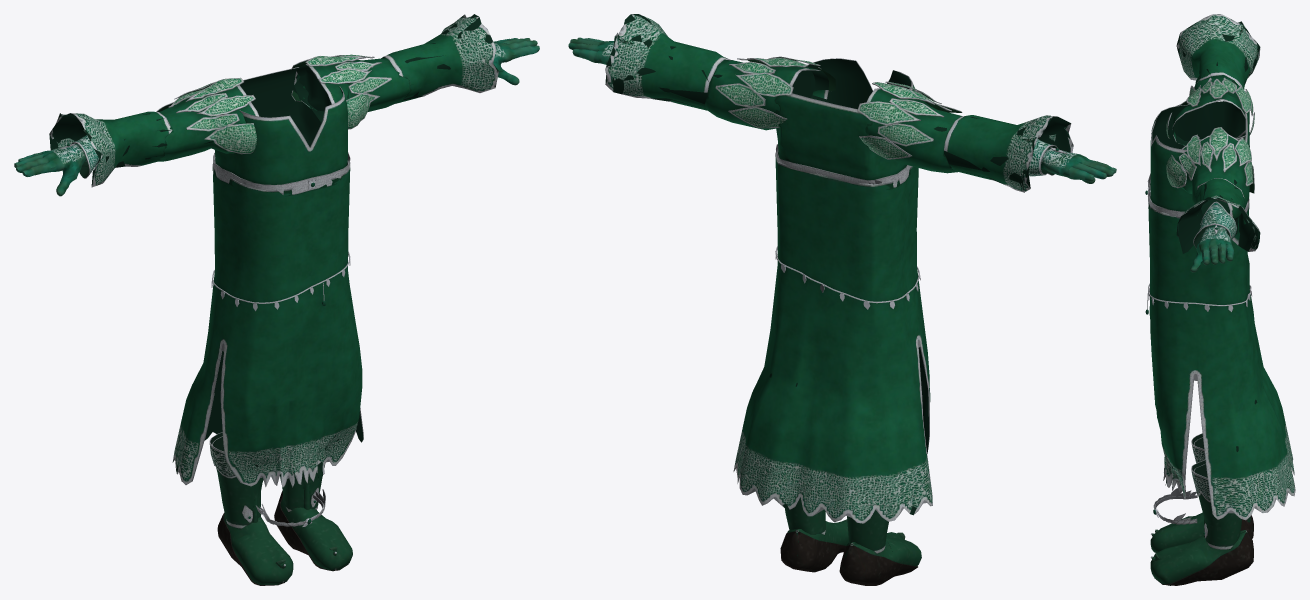
The model's file is mage_emerald.glb.
The picture shows the model from 3 angles, left to right: view 1: azimuth 30°, elevation 25°; view 2: azimuth 150°, elevation 25°; view 3: azimuth 270°, elevation 25°; orthographic projection. The views are drawn at different scales.
Visible parts, largest first — view 1: robe, feet, gloves; view 2: robe, feet, gloves; view 3: robe, feet, gloves, circlet.
Part boxes in pixels (x1=…): robe: x1=49, y1=14, x2=498, y2=487; feet: x1=209, y1=432, x2=352, y2=585; gloves: x1=14, y1=38, x2=539, y2=196; robe: x1=605, y1=14, x2=1073, y2=523; feet: x1=780, y1=497, x2=921, y2=585; gloves: x1=568, y1=37, x2=1116, y2=183; robe: x1=1145, y1=14, x2=1295, y2=520; feet: x1=1150, y1=433, x2=1253, y2=585; gloves: x1=1190, y1=201, x2=1236, y2=272; circlet: x1=1153, y1=488, x2=1197, y2=524.
Size of the model in its own units: 1.8 by 1.63 by 0.4816.
4 materials, 4 textured.
